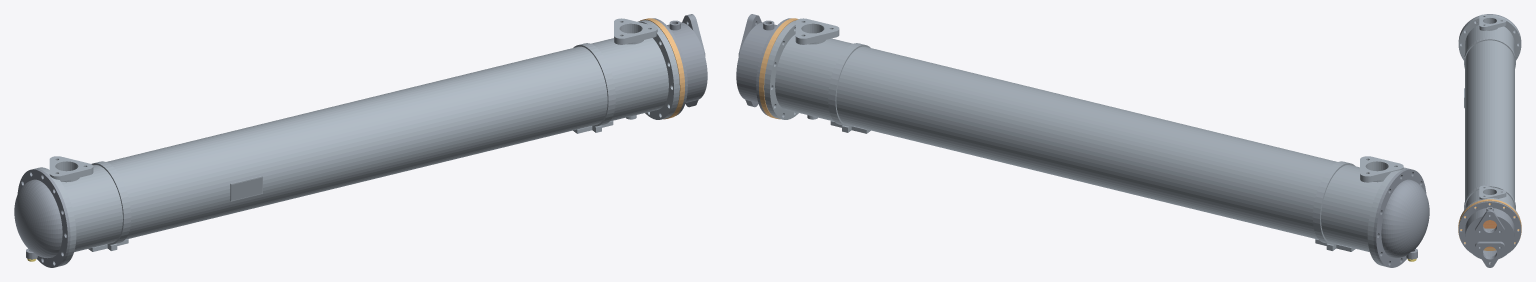
Rendered from AM18SFD0AA_Full_Assembly.glb.
3 views of the same model, side by side, from view 1: azimuth 30°, elevation 25°; view 2: azimuth 150°, elevation 25°; view 3: azimuth 270°, elevation 25° (orthographic). The views are drawn at different scales.
Parts seen in each view (by area): view 1: 1_Shell_Cast, 3_Header_Return_P1067, 2_Header_2Pass_P1066, 4_Tubesheet_Stationary, 8_Nameplate; view 2: 1_Shell_Cast, 3_Header_Return_P1067, 2_Header_2Pass_P1066, 4_Tubesheet_Stationary; view 3: 1_Shell_Cast, 2_Header_2Pass_P1066, 4_Tubesheet_Stationary, 10_Copper_Tubes_354, 3_Header_Return_P1067.
Boxes of the visible parts, box(x1,y1,x2,y2) form: 1_Shell_Cast: box(34, 18, 679, 266); 3_Header_Return_P1067: box(14, 168, 70, 267); 2_Header_2Pass_P1066: box(652, 14, 707, 115); 4_Tubesheet_Stationary: box(640, 18, 684, 119); 8_Nameplate: box(231, 177, 262, 200); 1_Shell_Cast: box(764, 18, 1409, 266); 3_Header_Return_P1067: box(1373, 168, 1429, 267); 2_Header_2Pass_P1066: box(736, 14, 791, 115); 4_Tubesheet_Stationary: box(759, 18, 798, 119); 1_Shell_Cast: box(1458, 14, 1521, 242); 2_Header_2Pass_P1066: box(1458, 201, 1521, 267); 4_Tubesheet_Stationary: box(1458, 199, 1521, 250); 10_Copper_Tubes_354: box(1483, 220, 1496, 247); 3_Header_Return_P1067: box(1459, 14, 1520, 44).
Size of the model in its own units: 2.19 by 0.2895 by 0.289.
